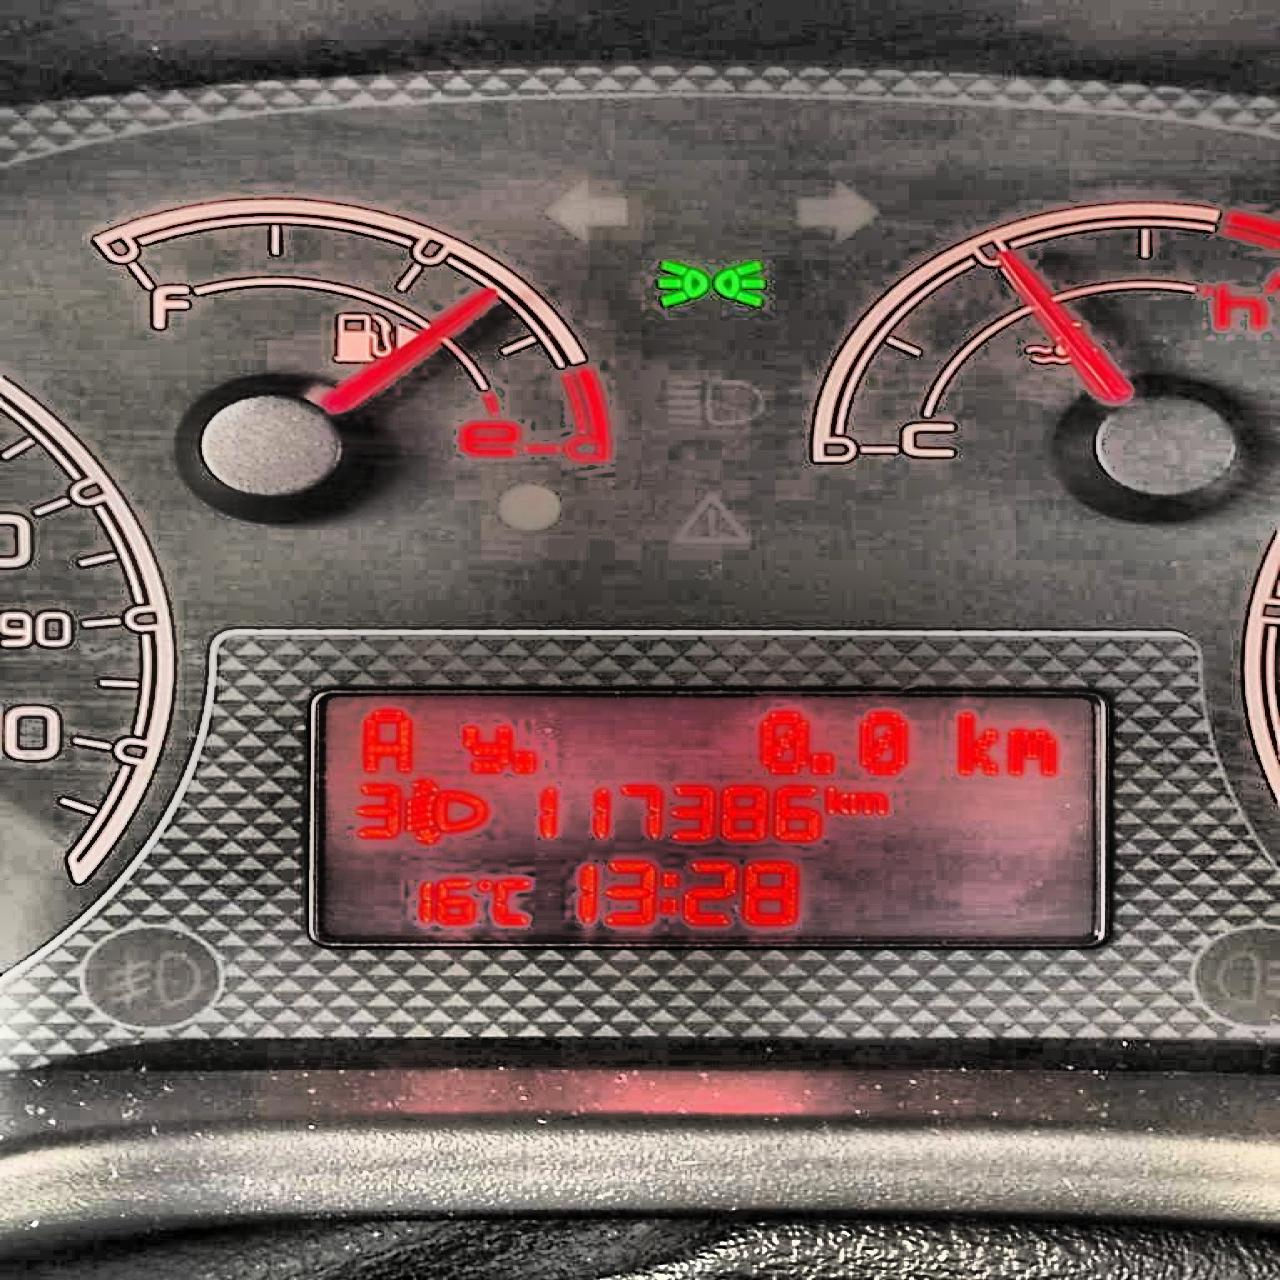-: (809, 749, 840, 777), (511, 745, 537, 776)
0: (757, 707, 809, 775), (856, 710, 907, 778)
1: (577, 858, 597, 924), (537, 784, 557, 842), (590, 785, 611, 839), (417, 878, 431, 922)
2: (682, 857, 737, 925)
3: (601, 859, 655, 926), (354, 779, 397, 839), (670, 784, 715, 842)
6: (771, 783, 821, 843), (436, 876, 475, 925)
7: (617, 781, 661, 840)
8: (742, 859, 799, 926), (717, 783, 769, 843)
X: (358, 707, 415, 771), (952, 709, 1001, 776), (1002, 726, 1055, 776), (462, 722, 511, 772), (493, 876, 530, 925), (849, 789, 886, 816), (659, 867, 679, 914), (824, 784, 847, 816)
odometer: (302, 685, 1111, 951)
